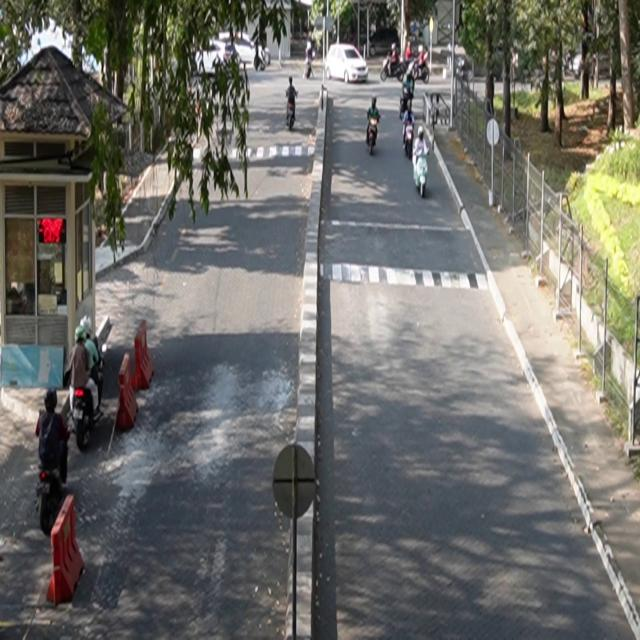car: (326, 44, 370, 84)
